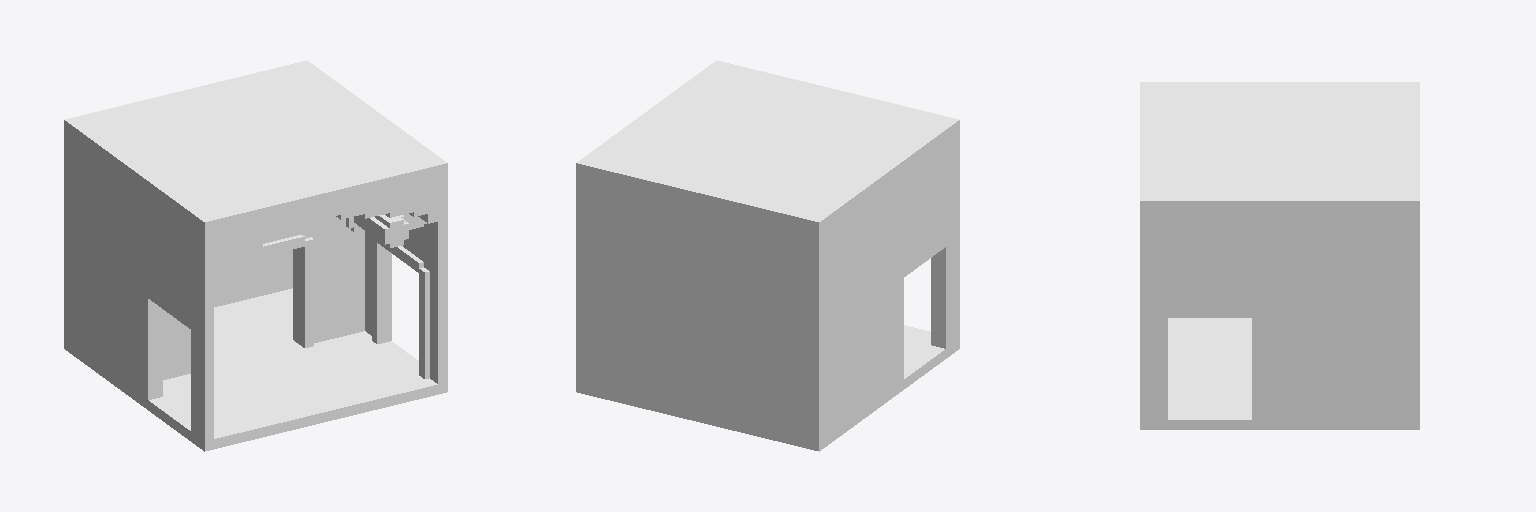
File: Volt-8-ДLift_1lvl.obj
The picture shows the model from 3 angles: view 1: azimuth 30°, elevation 25°; view 2: azimuth 150°, elevation 25°; view 3: azimuth 270°, elevation 25°; orthographic projection.
Parts seen in each view (by area): view 1: ДLift_1lvl; view 2: ДLift_1lvl; view 3: ДLift_1lvl.
Part boxes in pixels (x1,y1,x2,y2): ДLift_1lvl: (64, 60, 447, 451); ДLift_1lvl: (576, 60, 959, 451); ДLift_1lvl: (1140, 82, 1419, 429).
Bounding box in the file's own units: 5 × 4.5 × 5.